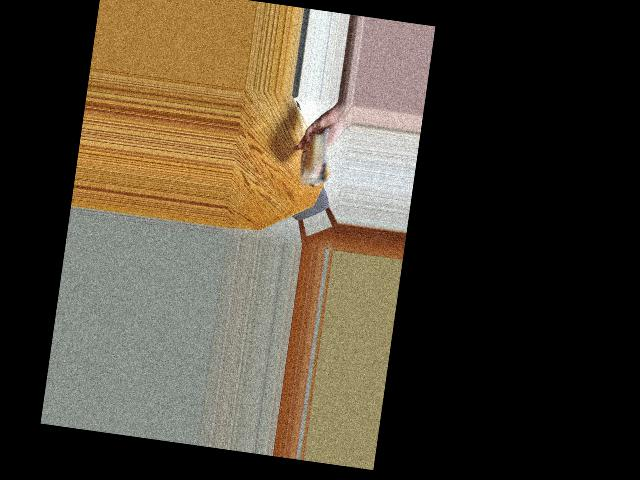cheese: (291, 129, 337, 187)
